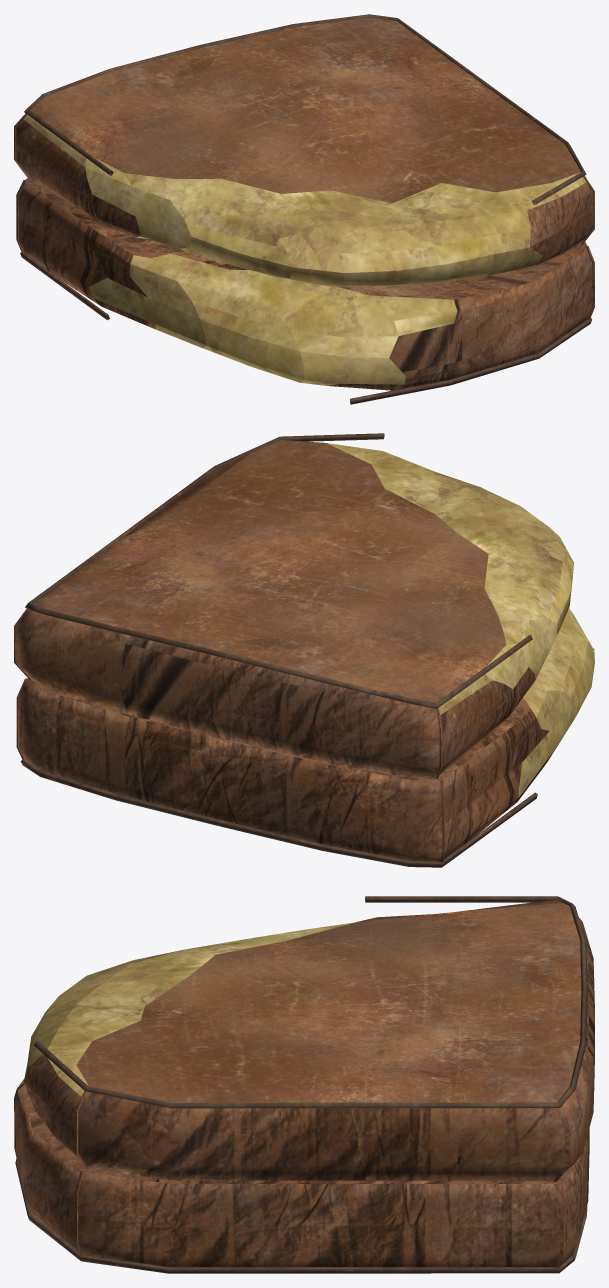
File: LooseCusionADestroy.fbx
The picture shows the model from 3 angles, top to bottom: view 1: azimuth 30°, elevation 25°; view 2: azimuth 150°, elevation 25°; view 3: azimuth 270°, elevation 25°; orthographic projection. The views are drawn at different scales.
Parts seen in each view (by area): view 1: LooseCushionDestroyA; view 2: LooseCushionDestroyA; view 3: LooseCushionDestroyA.
Part boxes in pixels (left/top/right/bottom): LooseCushionDestroyA: left=14, top=14, right=594, bottom=404; LooseCushionDestroyA: left=14, top=433, right=594, bottom=867; LooseCushionDestroyA: left=14, top=896, right=594, bottom=1273.
Size of the model in its own units: 82.77 by 32.31 by 94.52.
